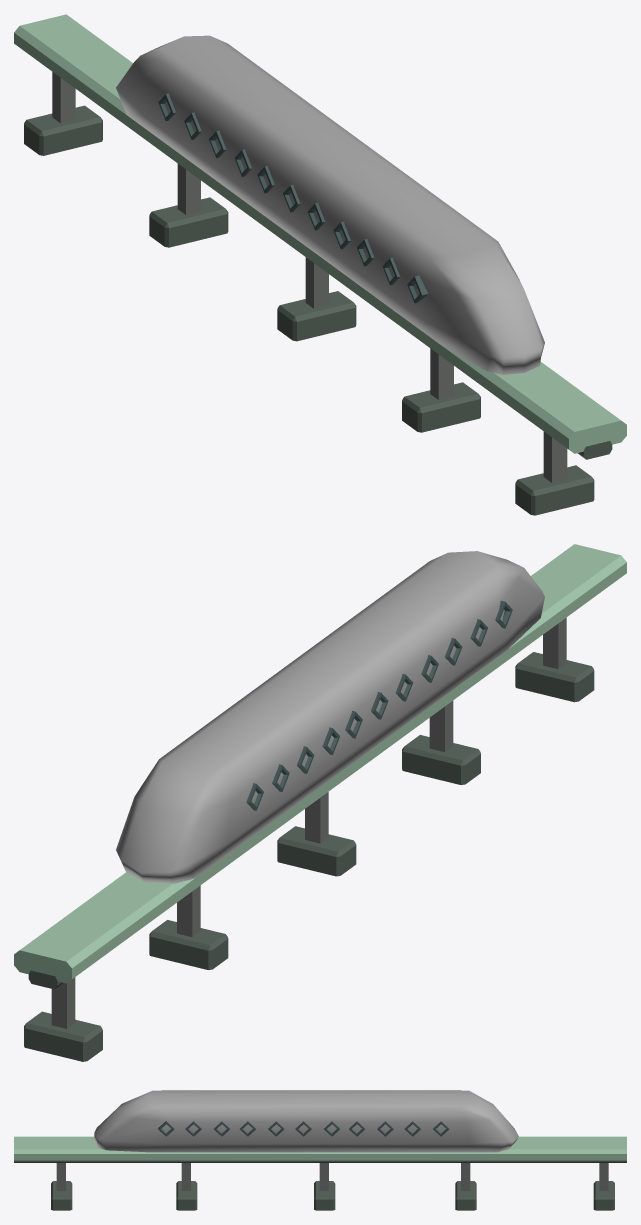
Rendered from Magnet Train (1).fbx.
The picture shows the model from 3 angles, top to bottom: view 1: azimuth 30°, elevation 25°; view 2: azimuth 150°, elevation 25°; view 3: azimuth 270°, elevation 25°; orthographic projection. The views are drawn at different scales.
Parts seen in each view (by area): view 1: pCube14, pCube15, pCube12, pCube8, pCube6, pCube2, pCube10, pCube11, pCube5, pCube7, pCube9, pCube3; view 2: pCube14, pCube15, pCube8, pCube6, pCube12, pCube2, pCube10, pCube3, pCube9, pCube7, pCube5, pCube11; view 3: pCube14, pCube15, pCube2, pCube8, pCube12, pCube6, pCube10, pCube3, pCube5, pCube7, pCube9, pCube11.
Part boxes in pixels (box(x1,y1,x2,y2)): pCube14: box(116, 35, 544, 374); pCube15: box(14, 14, 626, 459); pCube12: box(515, 465, 594, 515); pCube8: box(277, 291, 356, 341); pCube6: box(149, 197, 228, 247); pCube2: box(24, 105, 102, 155); pCube10: box(402, 382, 480, 432); pCube11: box(543, 431, 567, 482); pCube5: box(177, 163, 200, 214); pCube7: box(305, 257, 328, 308); pCube9: box(430, 348, 453, 399); pCube3: box(52, 72, 75, 123); pCube14: box(116, 551, 544, 883); pCube15: box(14, 544, 626, 989); pCube8: box(277, 826, 356, 876); pCube6: box(149, 920, 228, 969); pCube12: box(515, 652, 594, 702); pCube2: box(24, 1011, 102, 1061); pCube10: box(402, 735, 480, 784); pCube3: box(51, 977, 75, 1028); pCube9: box(429, 700, 453, 751); pCube7: box(305, 792, 328, 843); pCube5: box(177, 885, 200, 936); pCube11: box(543, 617, 566, 668); pCube14: box(94, 1090, 518, 1152); pCube15: box(14, 1136, 626, 1162); pCube2: box(593, 1181, 614, 1210); pCube8: box(314, 1181, 335, 1210); pCube12: box(51, 1181, 72, 1210); pCube6: box(455, 1181, 476, 1210); pCube10: box(176, 1181, 197, 1210); pCube3: box(599, 1163, 608, 1190); pCube5: box(461, 1163, 470, 1190); pCube7: box(319, 1163, 328, 1190); pCube9: box(181, 1163, 190, 1190); pCube11: box(56, 1163, 65, 1190).
Size of the model in its own units: 4.68 by 9.58 by 49.74.
